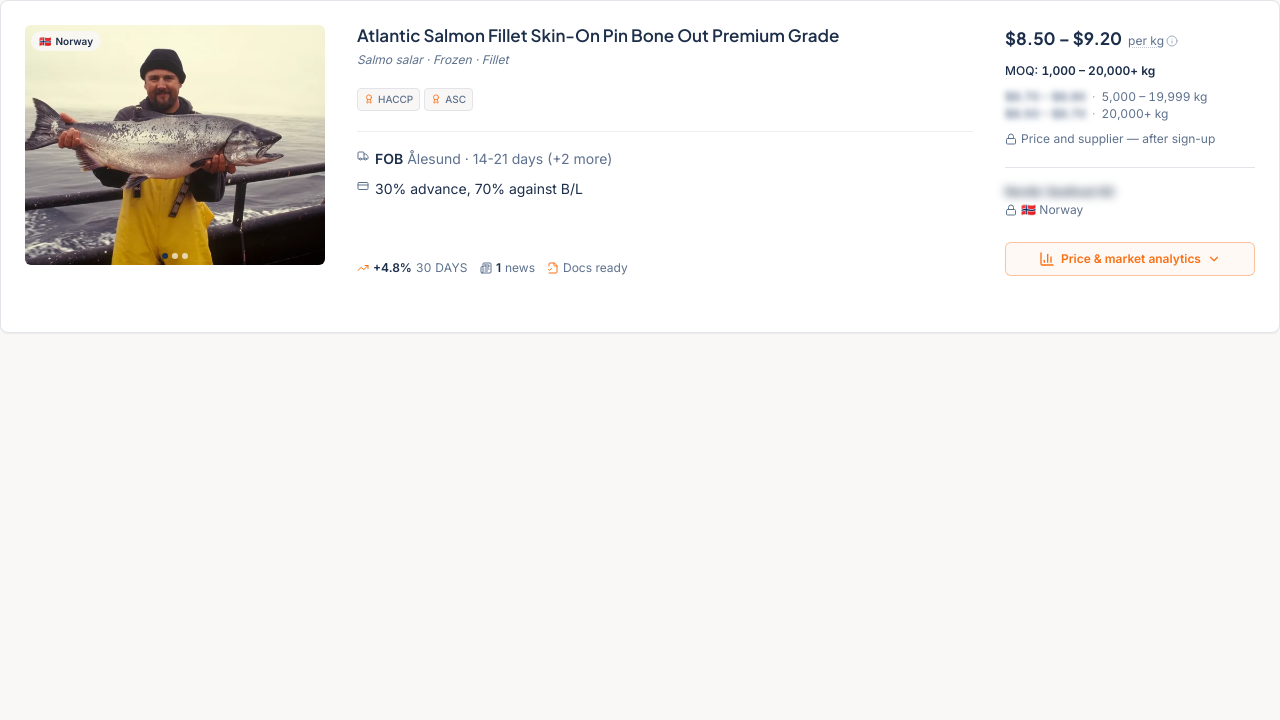
Test: CatalogOfferRow · «Аналитика» — a11y контракт › aria-expanded и data-state синхронизированы и переключаются по клику
Step 1. Click the button with test id "catalog-row-analytics-toggle" → click(1130, 259), box [1005,242,1255,276]
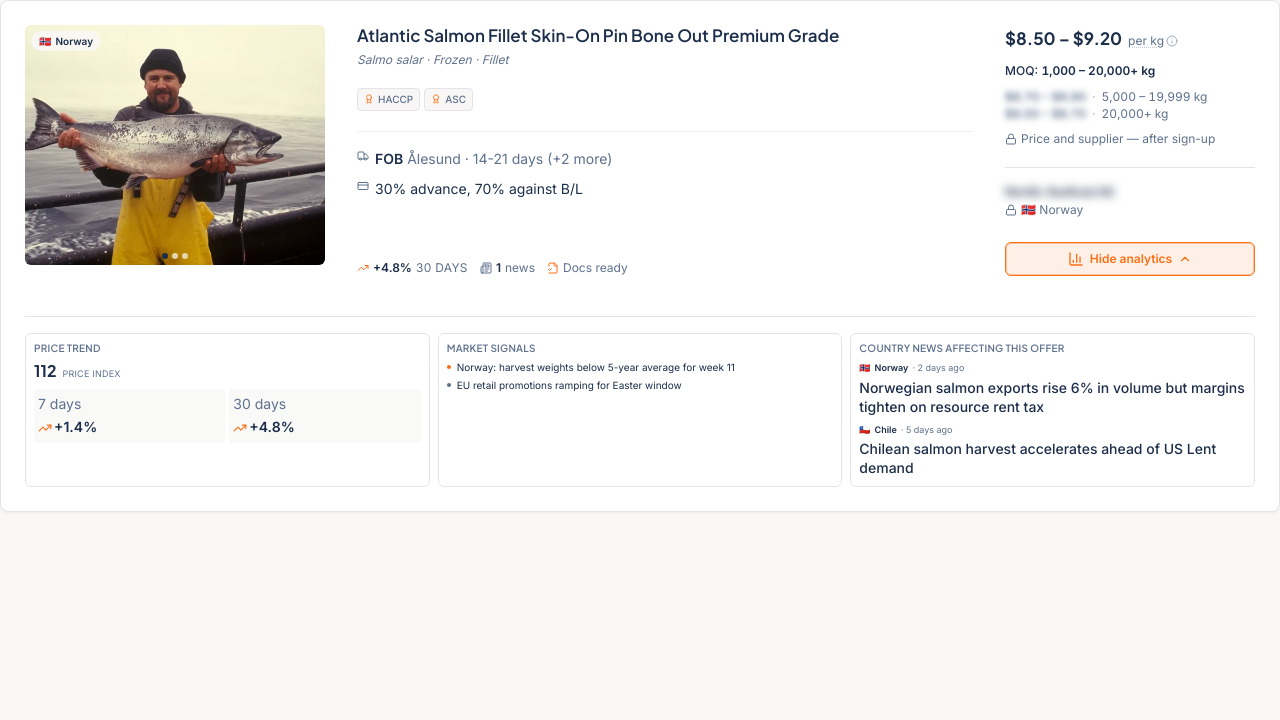
Check: the button with test id "catalog-row-analytics-toggle" is expanded
Step 2. Click the button with test id "catalog-row-analytics-toggle" → click(1130, 259), box [1005,242,1255,276]
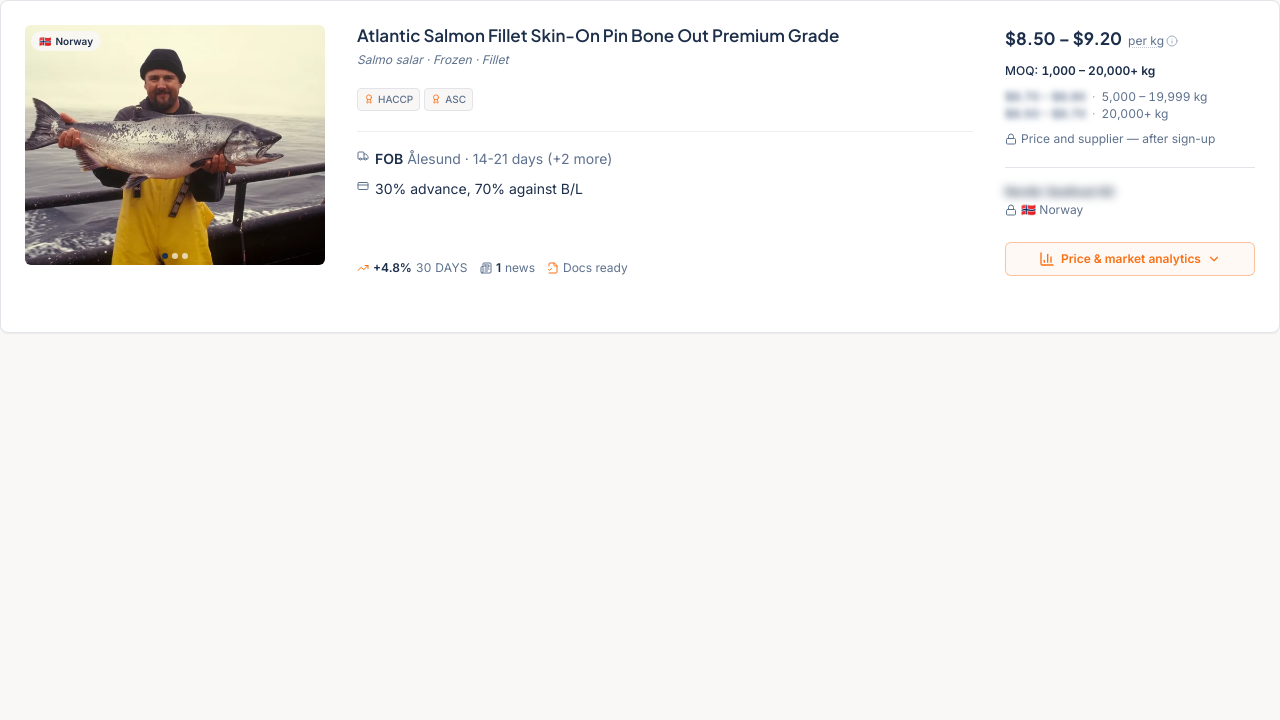
Check: the button with test id "catalog-row-analytics-toggle" is collapsed, box [1005,242,1255,276]
